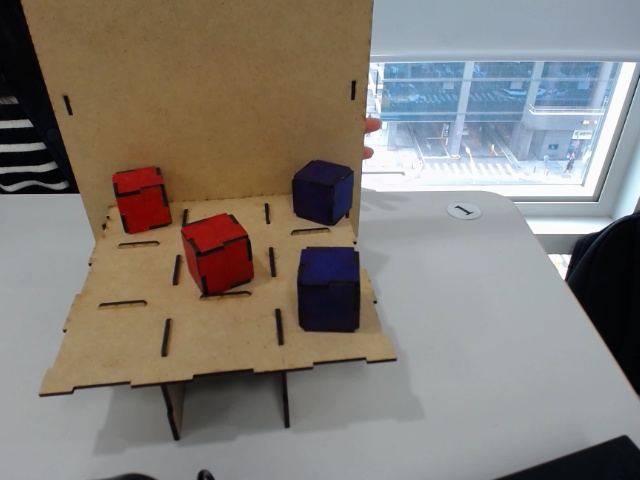blue: (295, 245, 361, 332), (293, 162, 354, 225)
red: (181, 215, 254, 293), (111, 165, 172, 236)
